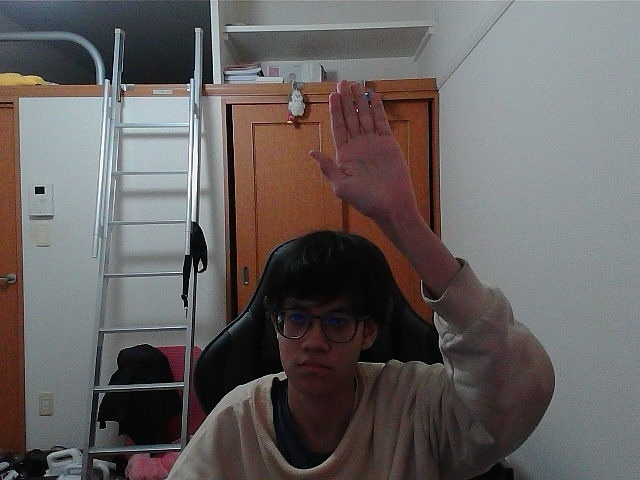open_palm: (316, 85, 392, 202)
